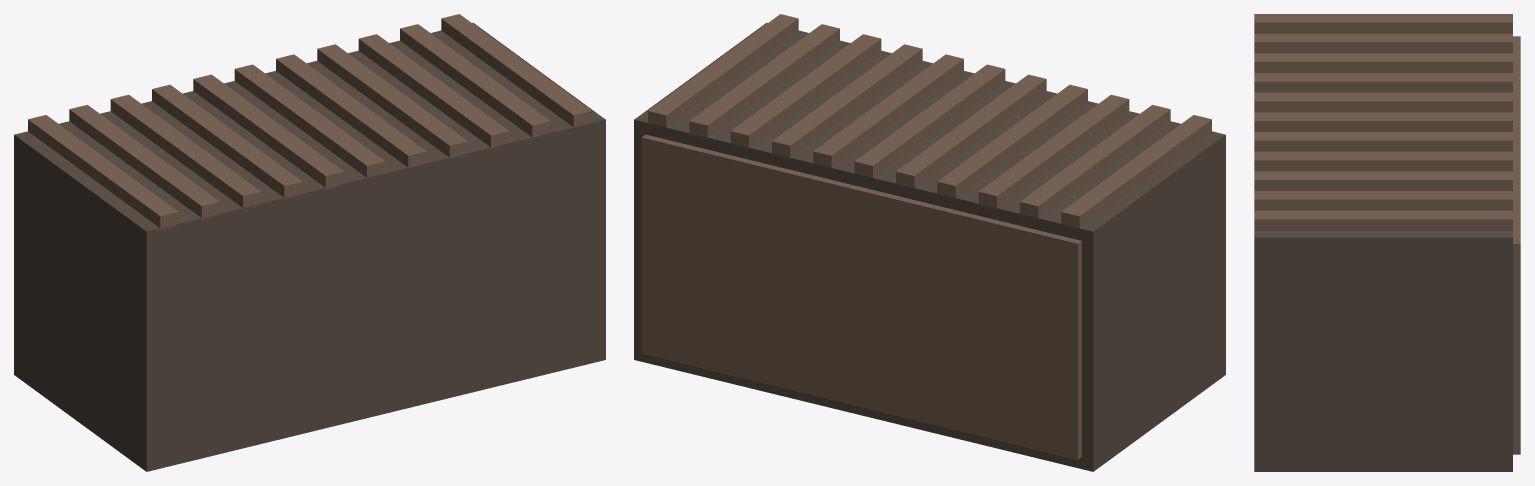
The model's file is prop_saisen_oo.glb.
3 views of the same model, side by side, from view 1: azimuth 30°, elevation 25°; view 2: azimuth 150°, elevation 25°; view 3: azimuth 270°, elevation 25° (orthographic). The views are drawn at different scales.
Parts seen in each view (by area): view 1: saisen_oo; view 2: saisen_oo; view 3: saisen_oo.
Part boxes in pixels (left/top/right/bottom): saisen_oo: left=14, top=14, right=605, bottom=471; saisen_oo: left=634, top=14, right=1225, bottom=471; saisen_oo: left=1254, top=14, right=1520, bottom=471.
Bounding box in the file's own units: 2 × 1.05 × 1.03.
